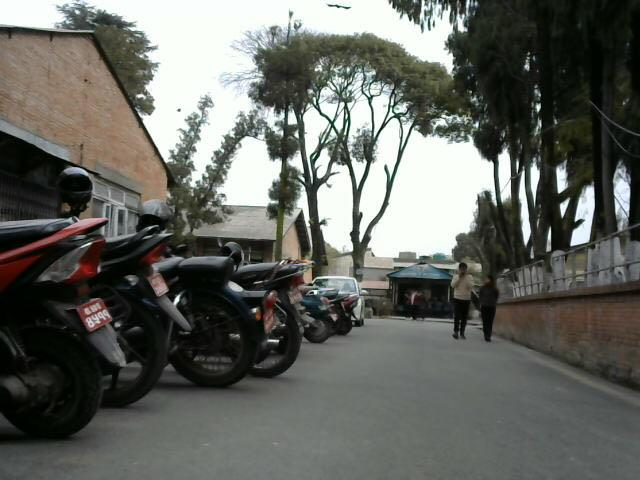Building: (2, 14, 212, 221)
Motorcycle: (0, 190, 347, 445)
Person: (446, 250, 472, 347), (481, 268, 502, 348)
Road: (43, 315, 640, 480)
Tree: (235, 7, 640, 244)
